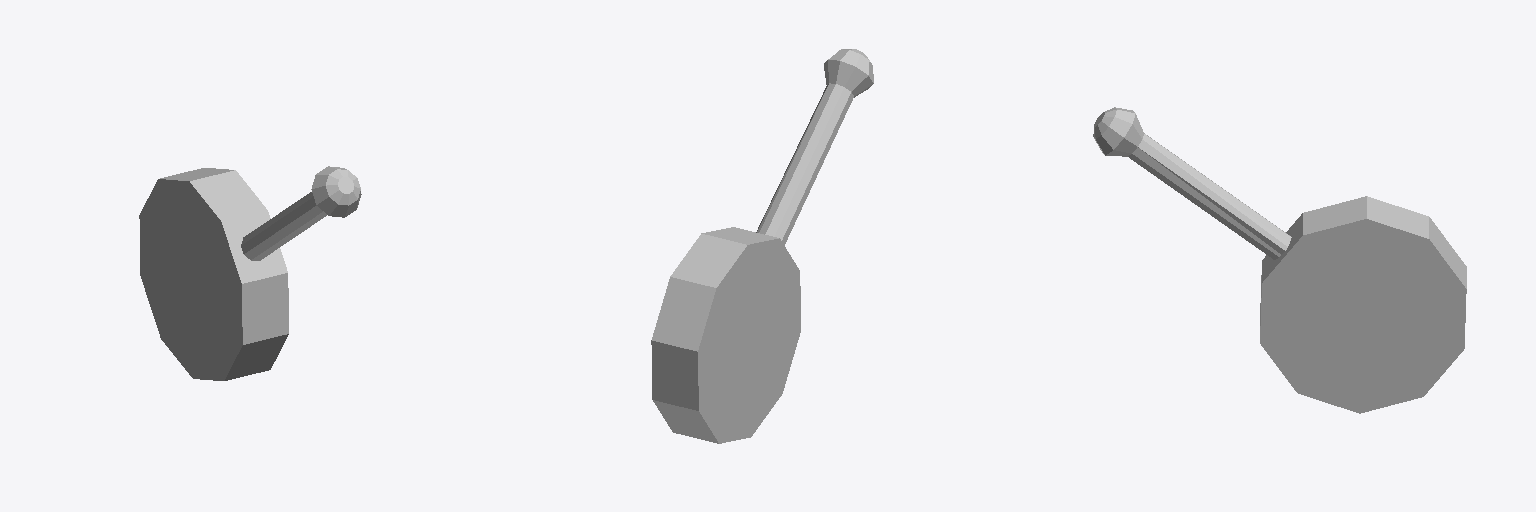
Rendered from gatcha_lever.obj.
3 views of the same model, side by side, from view 1: azimuth 30°, elevation 25°; view 2: azimuth 150°, elevation 25°; view 3: azimuth 270°, elevation 25° (orthographic).
Visible parts, largest first — view 1: Cube.011; view 2: Cube.011; view 3: Cube.011.
Part boxes in pixels (x1,y1,x2,y2): Cube.011: (139, 166, 361, 380); Cube.011: (651, 49, 873, 443); Cube.011: (1093, 107, 1466, 413).
Size of the model in its own units: 0.1043 by 0.6282 by 0.7257.